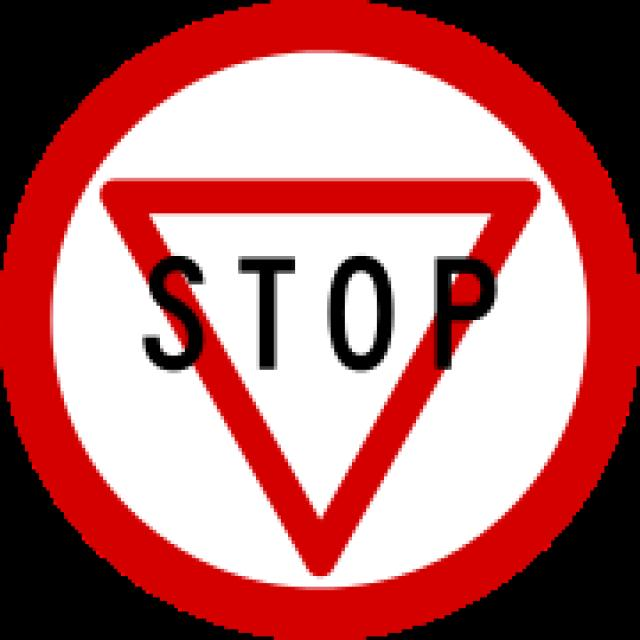Traffic sign: (36, 64, 598, 612)
